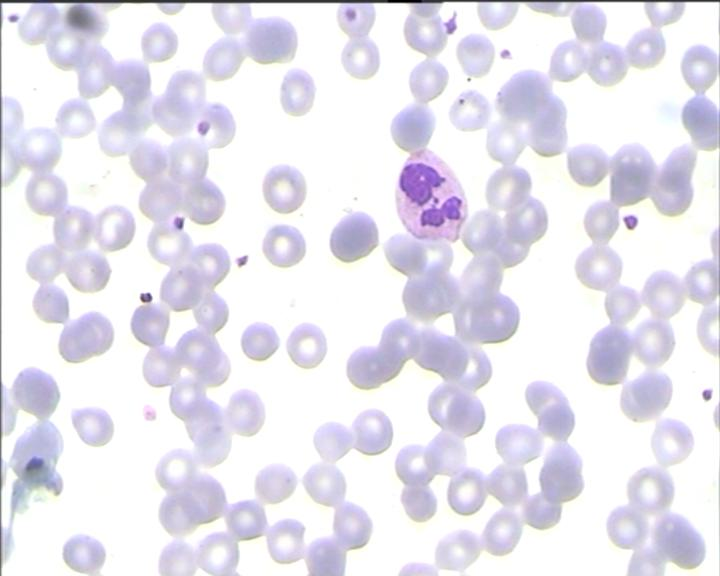neut: (391, 142, 469, 249)
